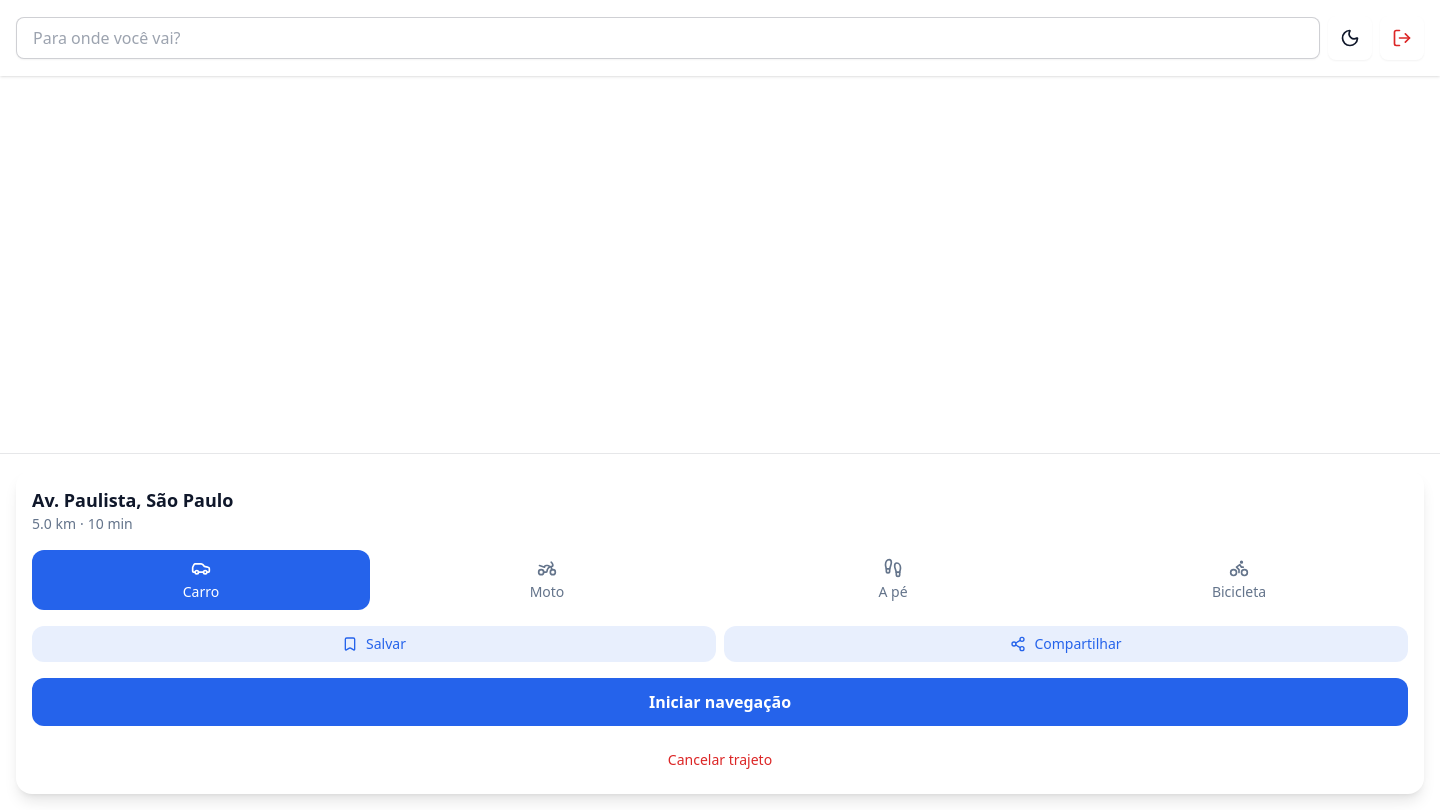
Scenario: PlanningView › pede um nome ao salvar um local e usa a resposta como rótulo
Click the button "Salvar": click(374, 644) left=32, top=626, right=716, bottom=662
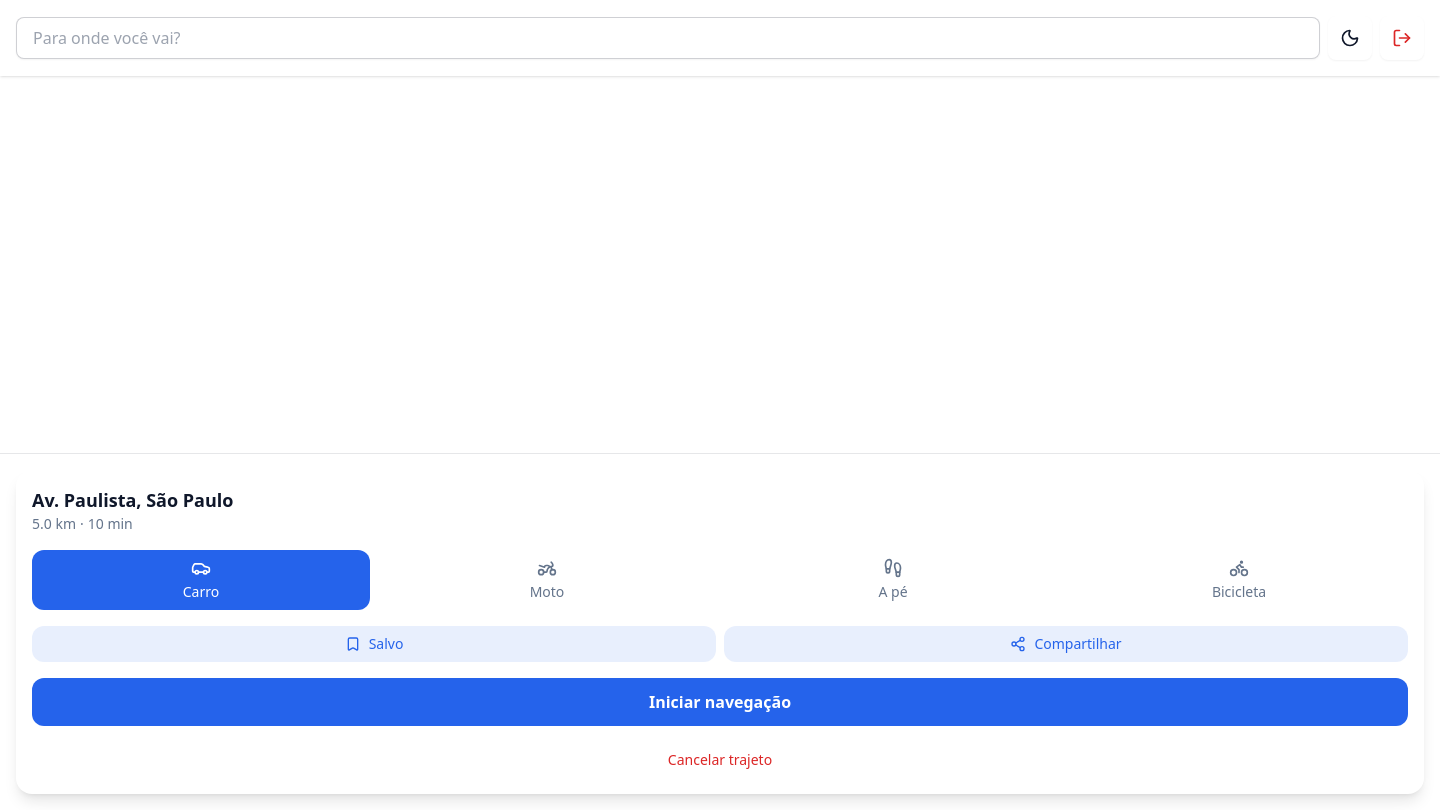
expect the button "Salvo" is shown: met, box left=32, top=626, right=716, bottom=662
